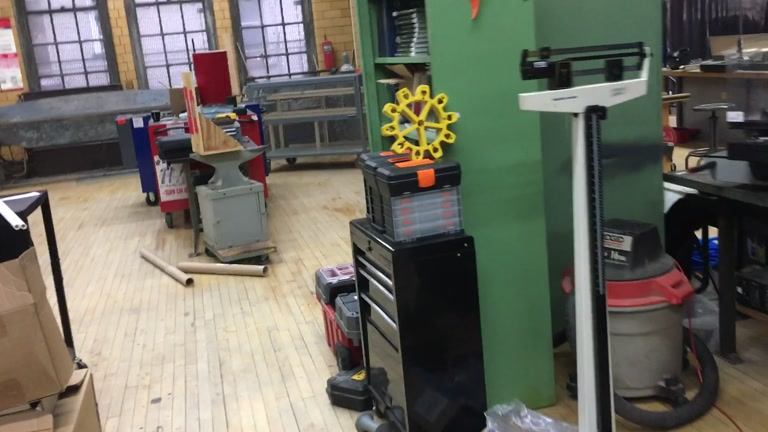gear: (380, 84, 458, 163)
